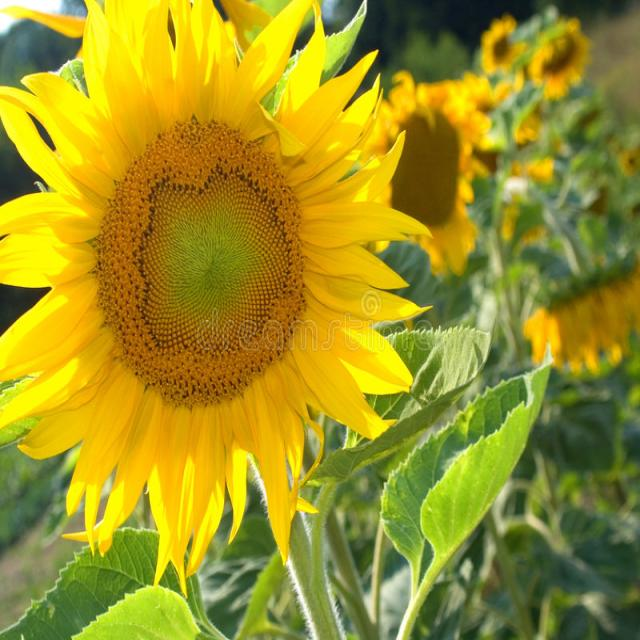sunflower: (0, 0, 466, 586), (355, 68, 489, 283), (522, 15, 598, 103)
